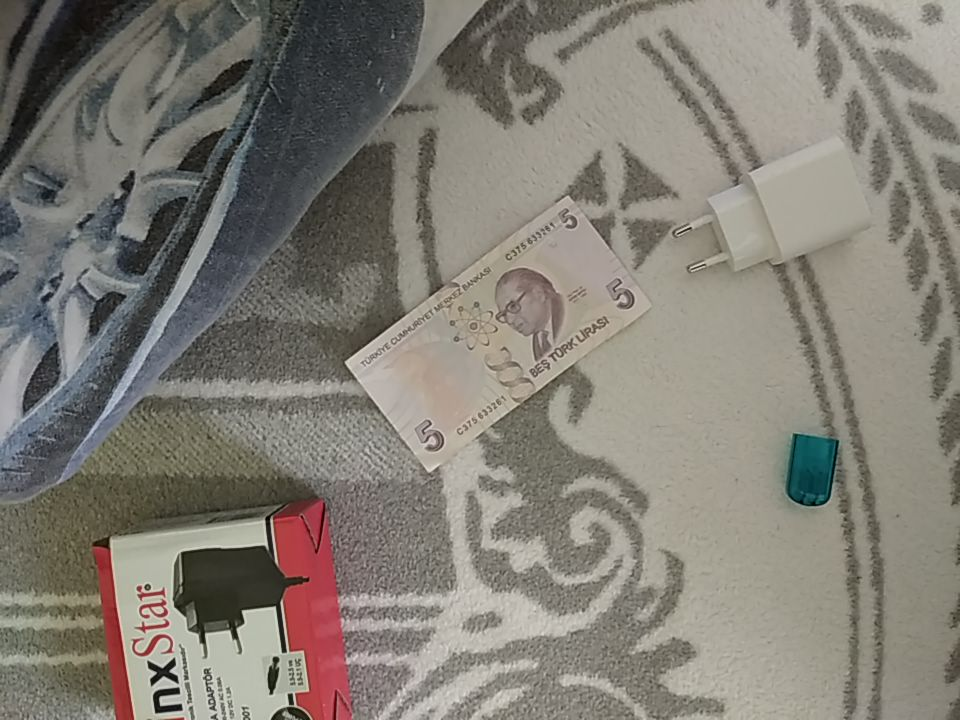5TL: (341, 194, 655, 474)
